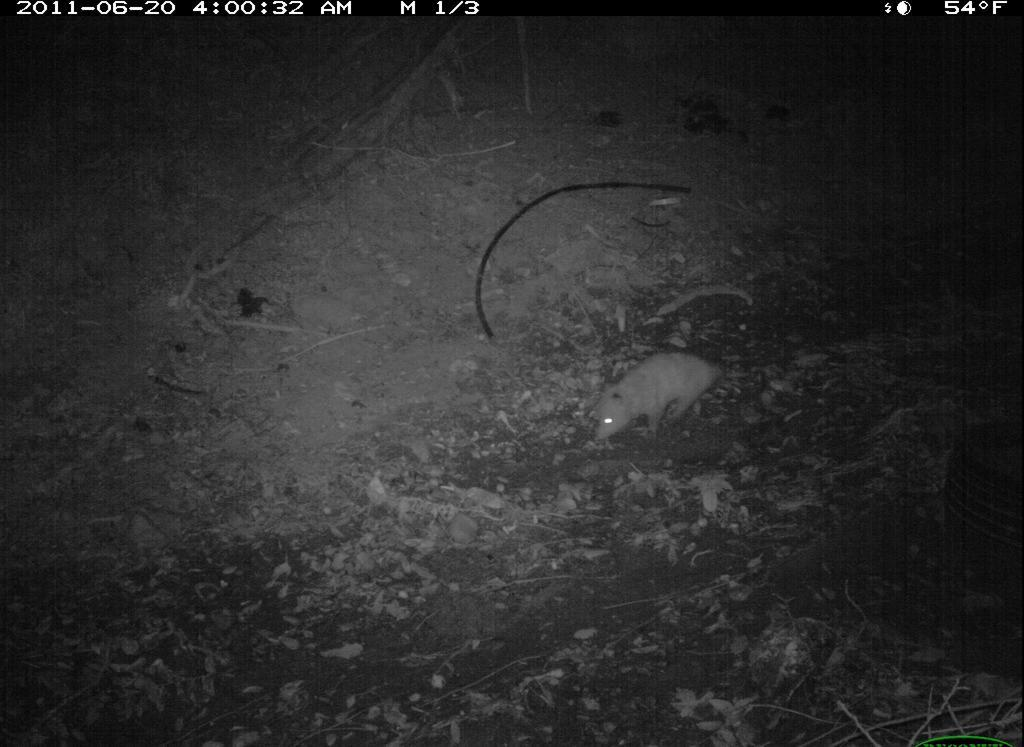opossum: (583, 341, 734, 460)
